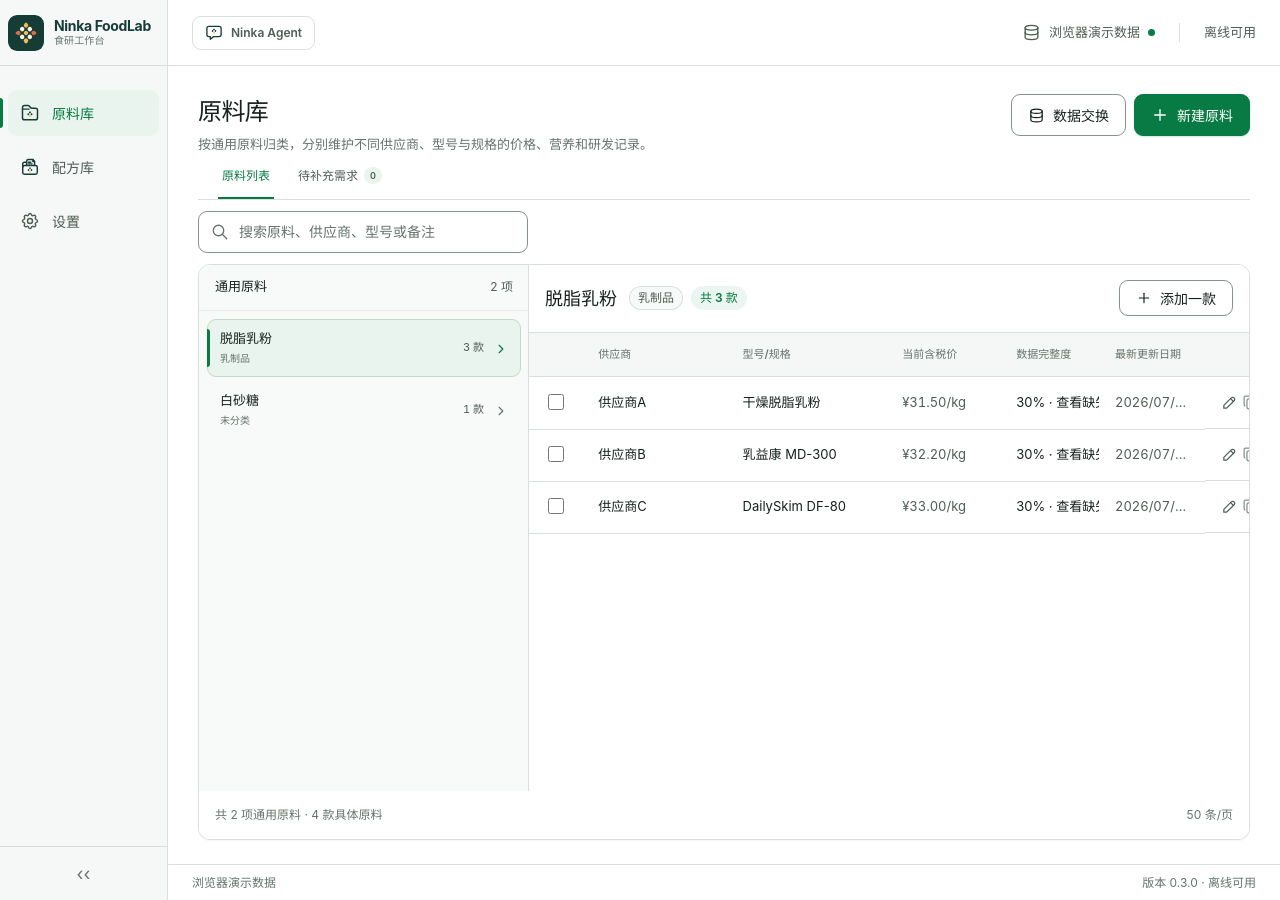
Scenario: ingredient library supplier hierarchy › opens ingredient data exchange from the library toolbar
This screenshot has width=1280, height=900.
Expected: the button with aria-label "查看 脱脂乳粉 的具体原料" is shown, [207,318,521,376]
What coordinates should you click on to do the following:
click the button "数据交换"
I would click on:
 (1068, 115)
Its box is [1011,94,1126,136].
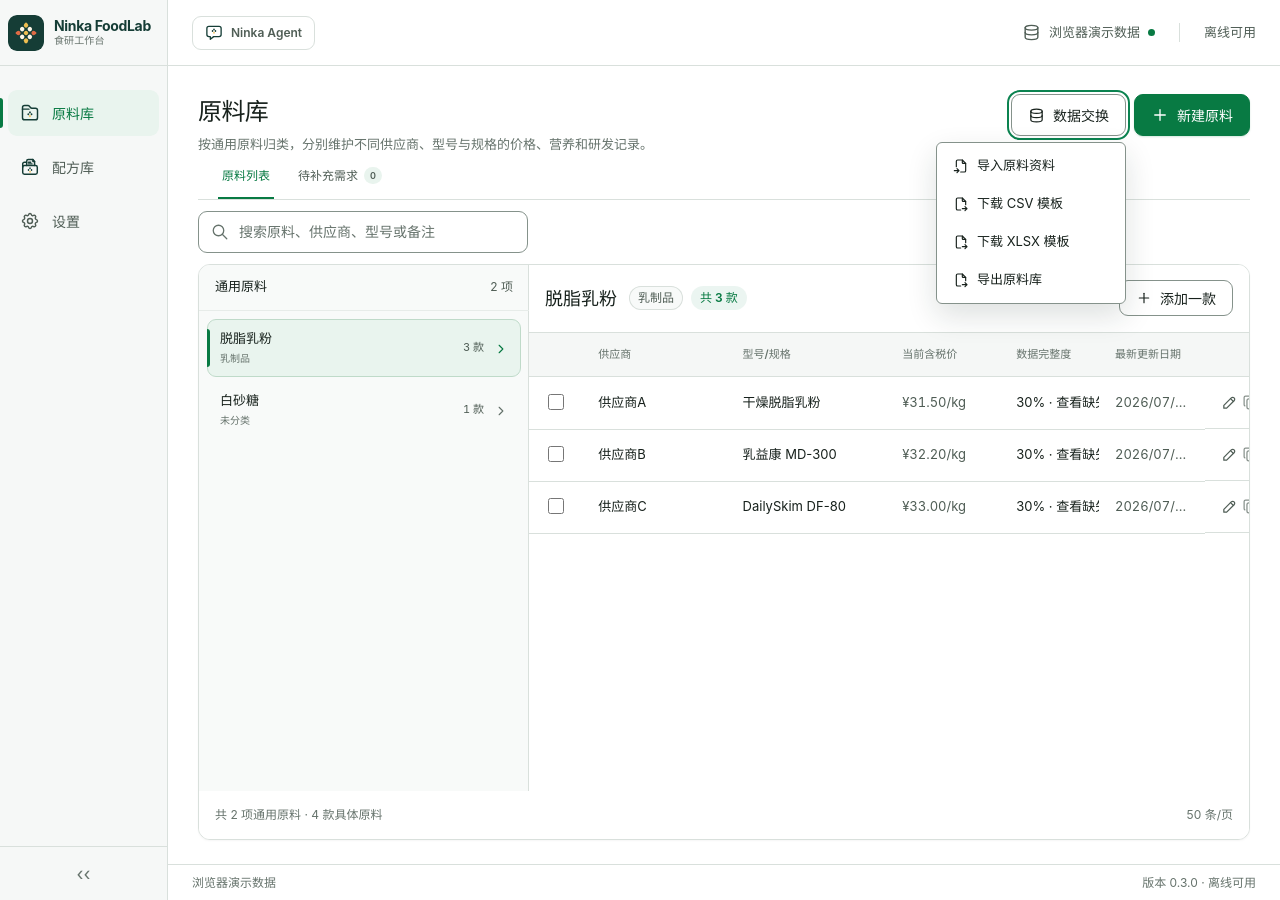
What coordinates should you click on to do the following:
click the button "导入原料资料"
I would click on:
 (1031, 166)
Its box is [941,147,1121,185].
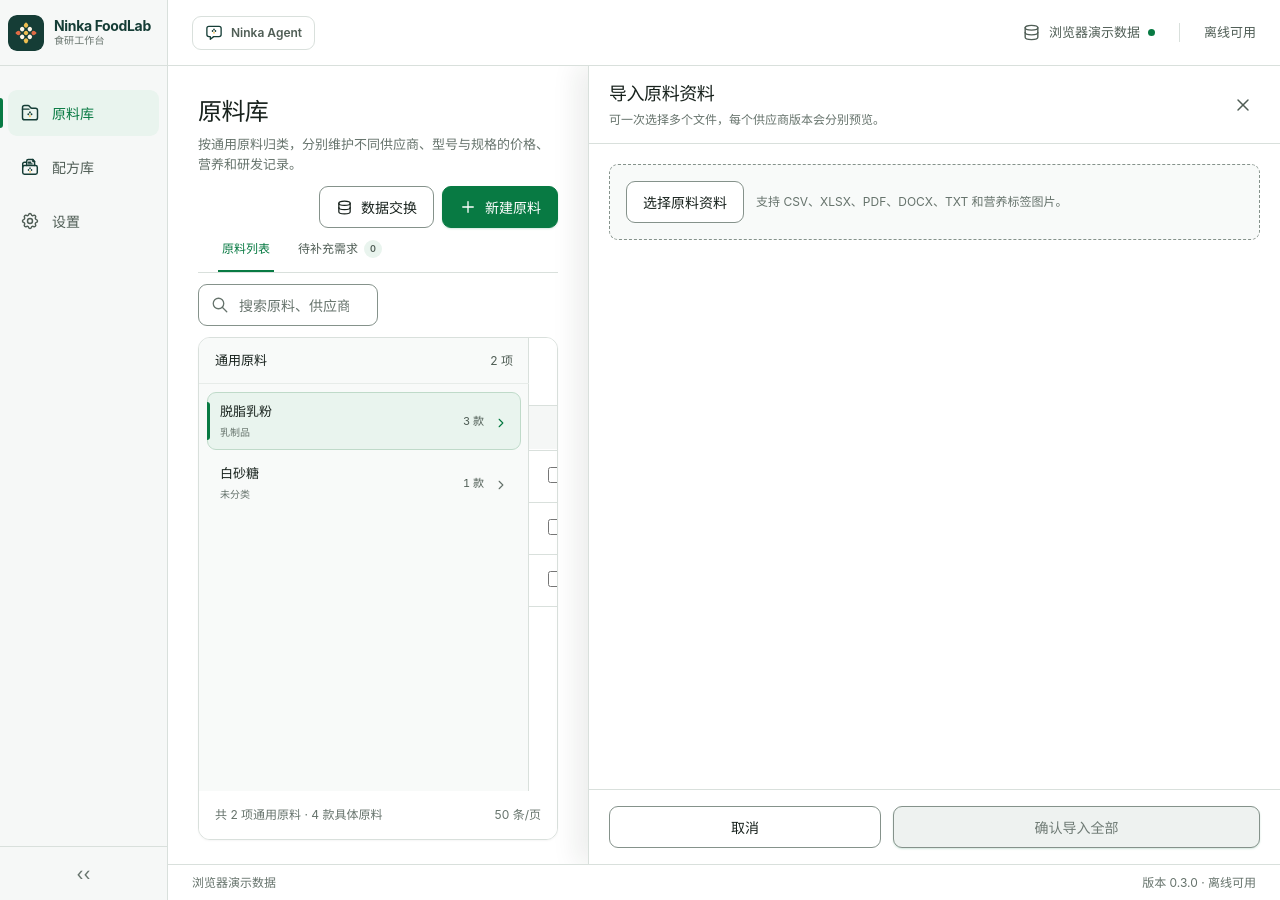
Expected: the dialog "导入原料资料" is shown, [588,66,1279,864]
